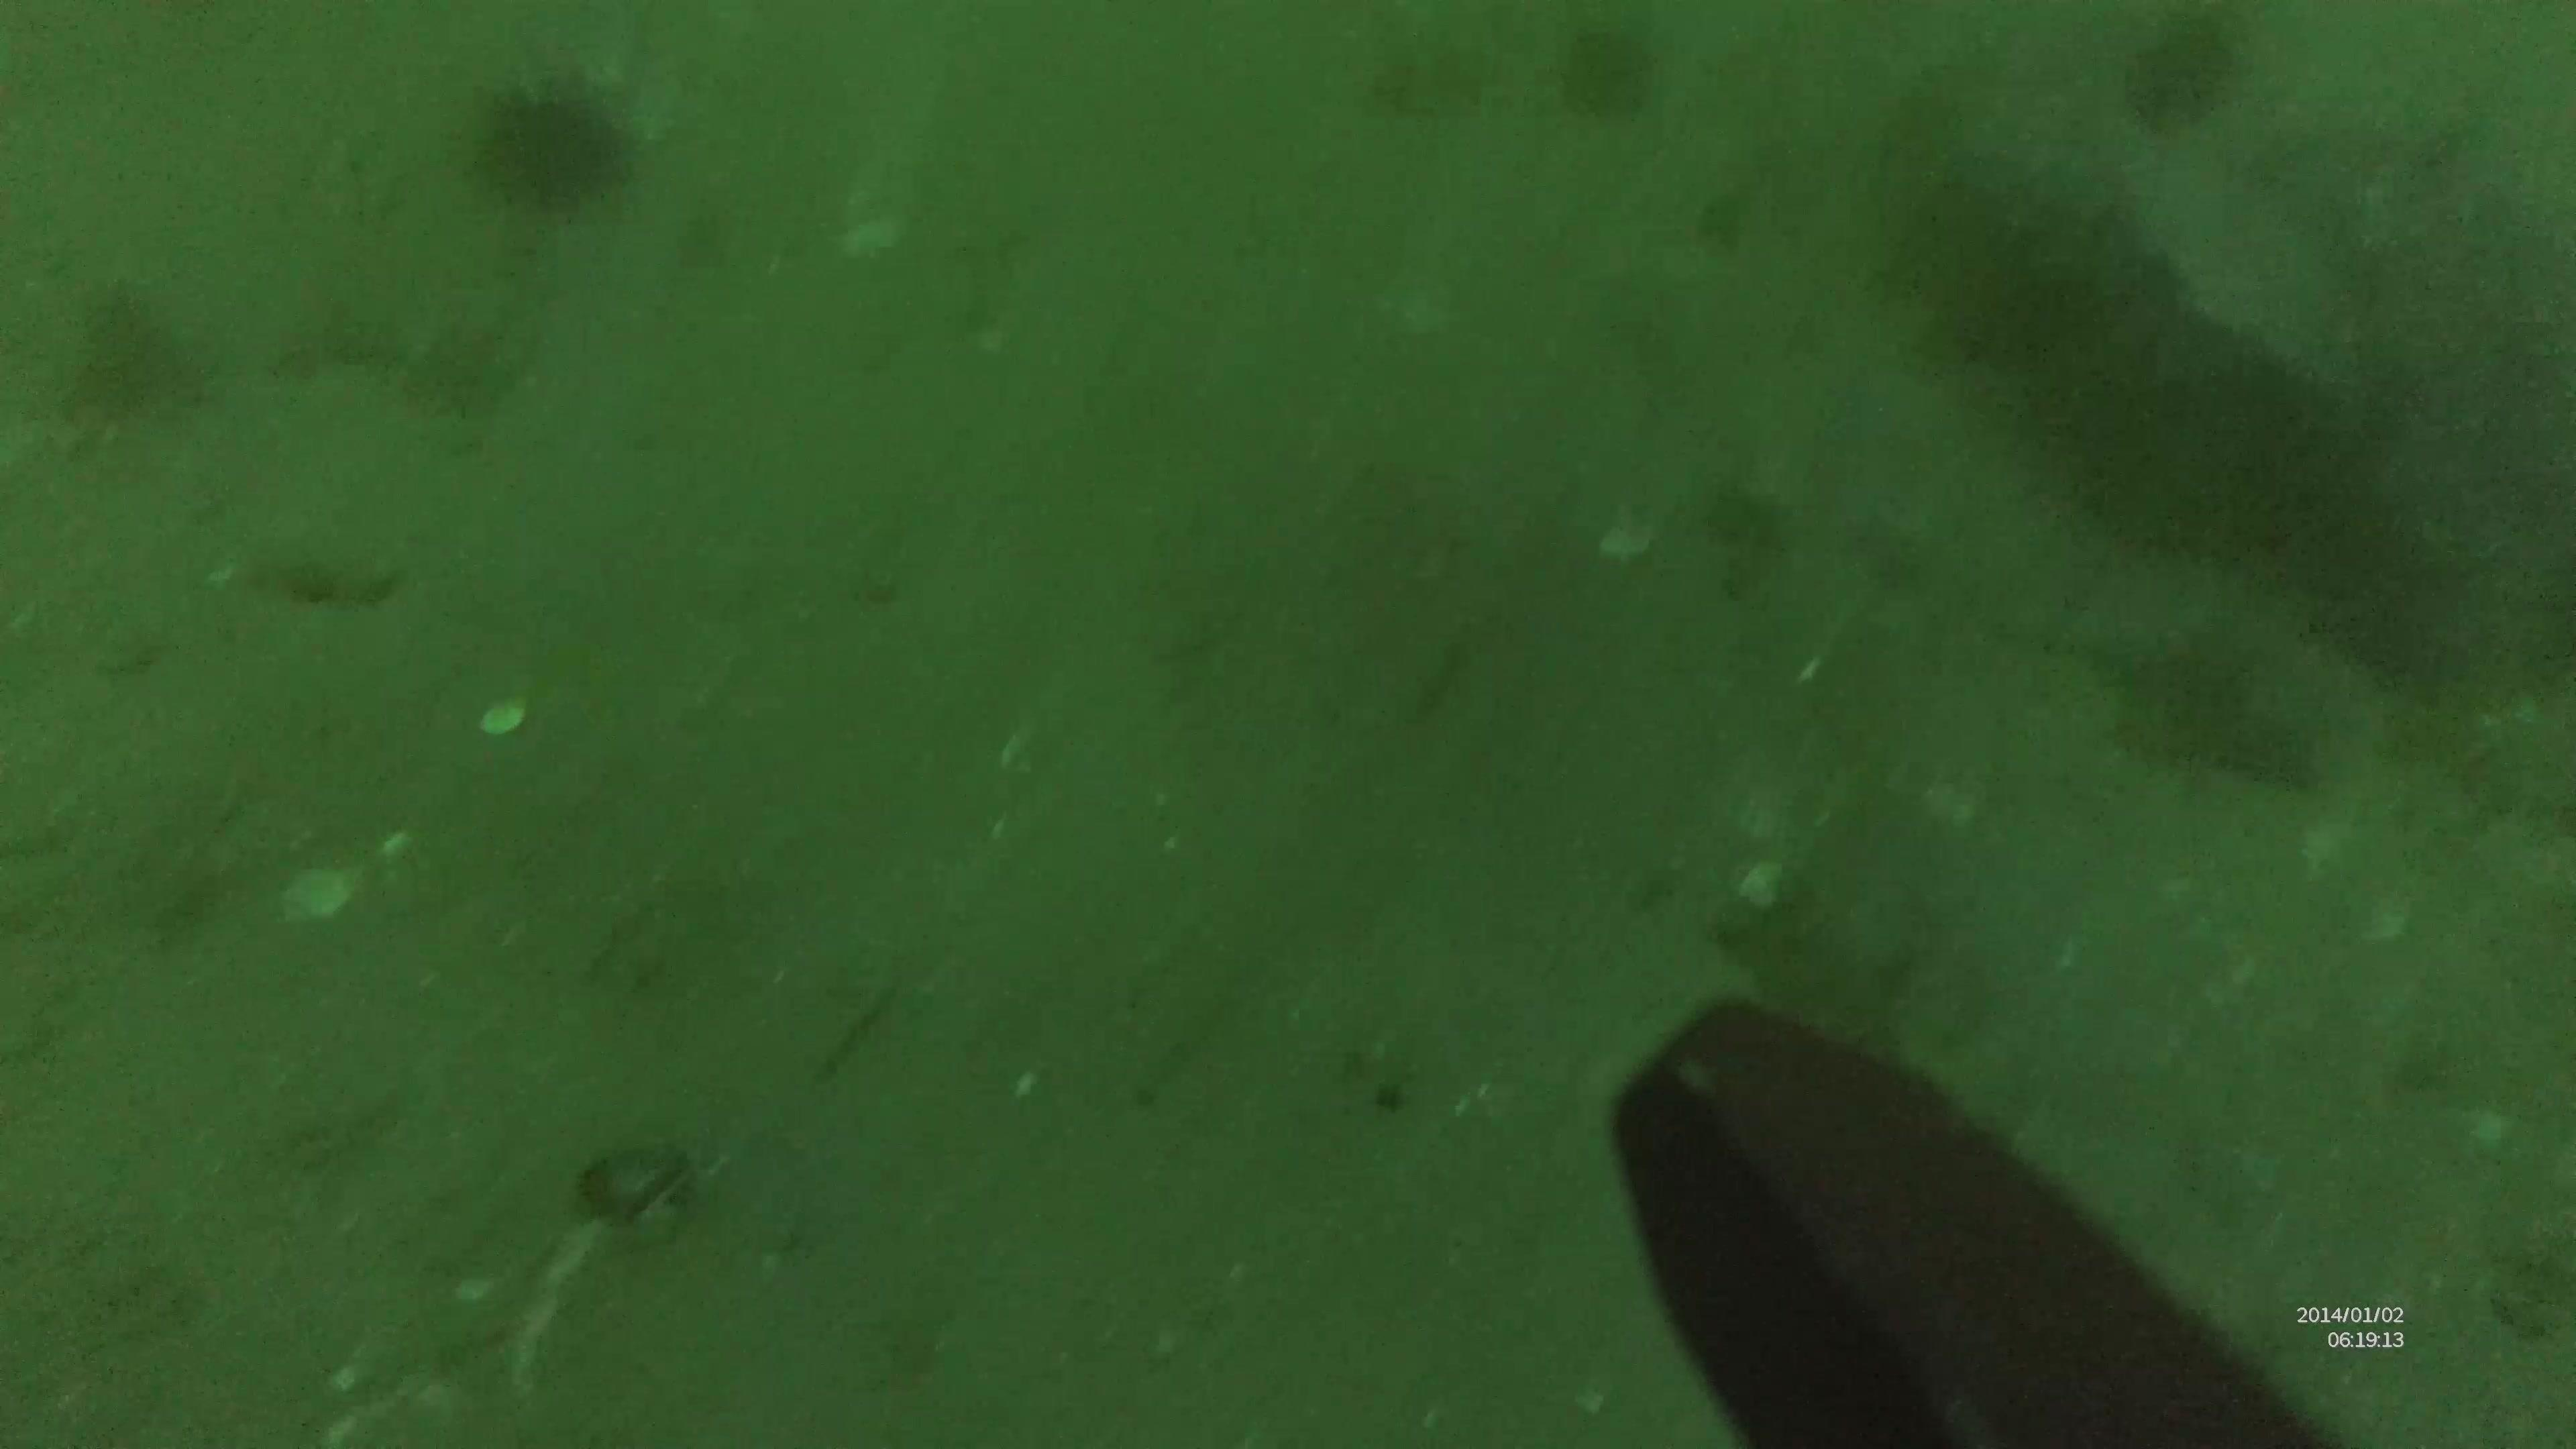echinus: (456, 74, 653, 221)
